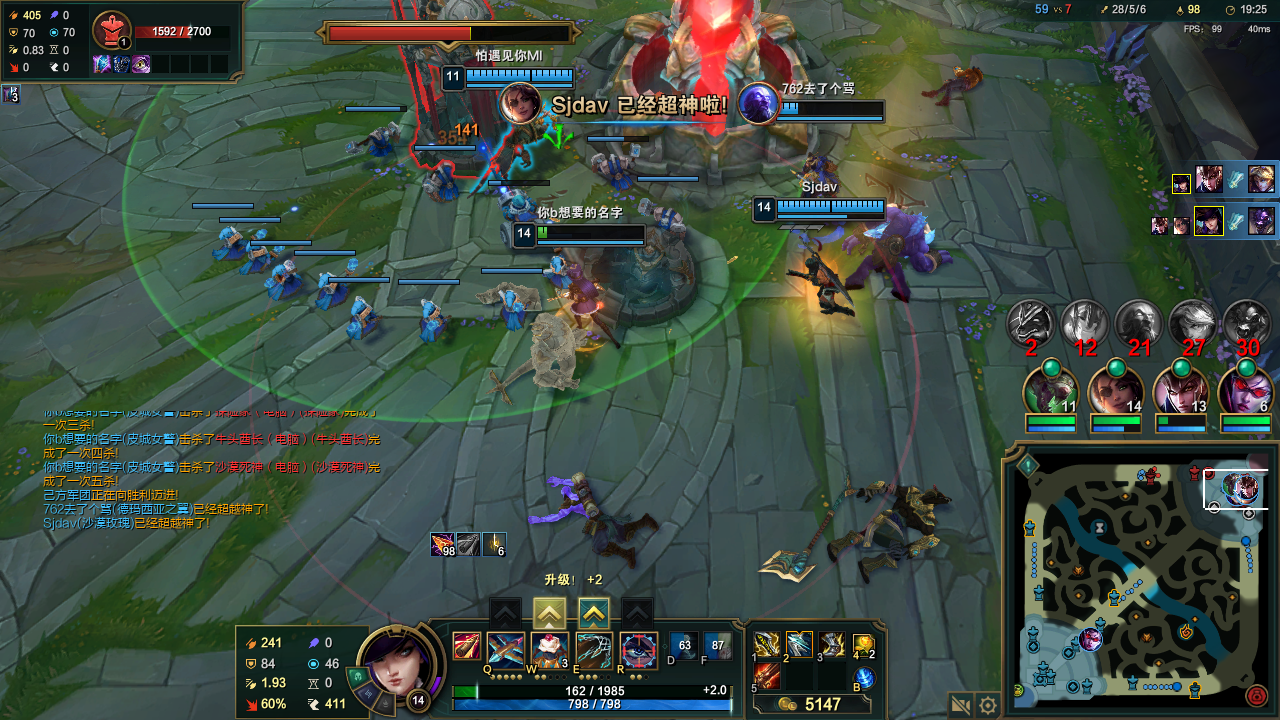DFFYT: (318, 22, 534, 164)
Shenji: (580, 605, 609, 623)
Tuijianshengji: (536, 603, 564, 624)
WFXB: (634, 199, 698, 237), (591, 152, 641, 195), (424, 168, 470, 214), (491, 191, 538, 230), (415, 297, 453, 343), (335, 293, 378, 332), (209, 220, 248, 262), (257, 261, 300, 297), (309, 266, 344, 309), (244, 234, 271, 268), (498, 291, 525, 320), (364, 126, 394, 151)
